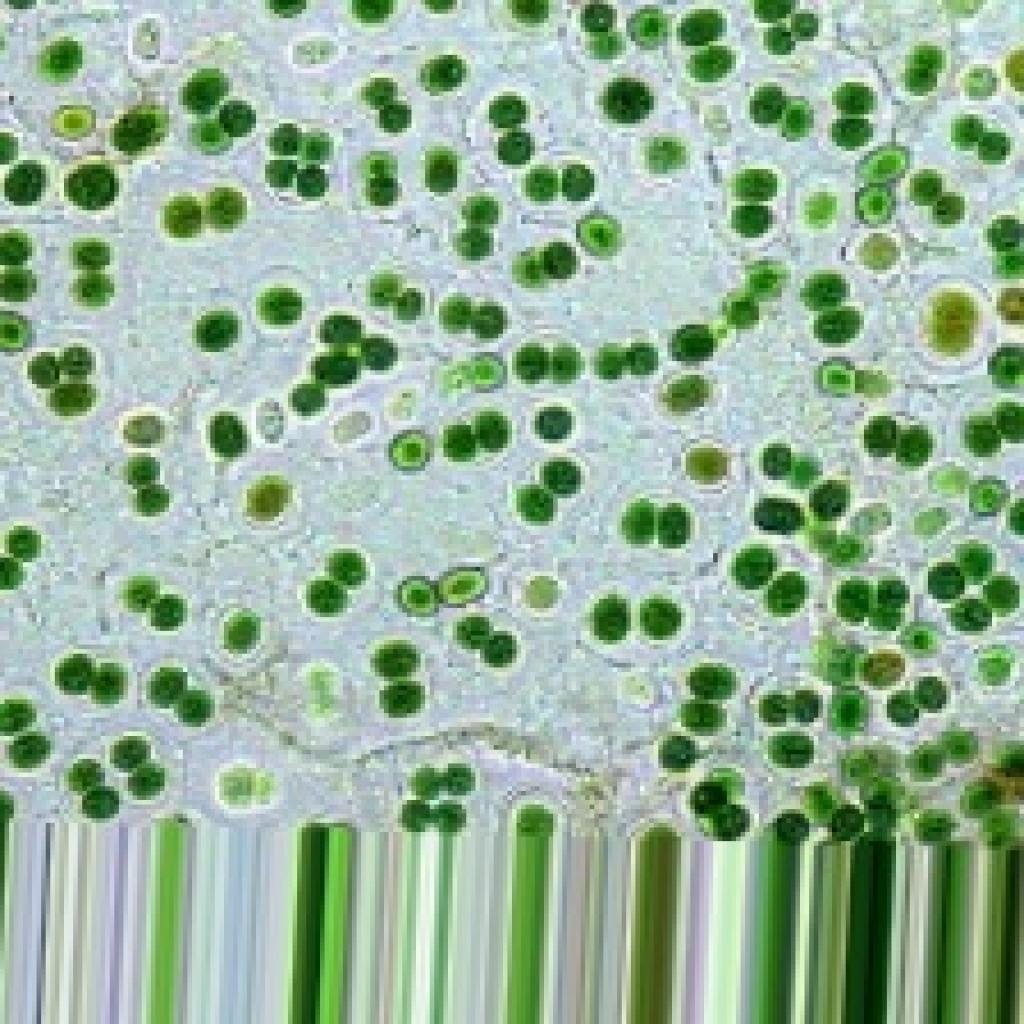Sphericalbacteria: (0, 0, 1019, 845)
